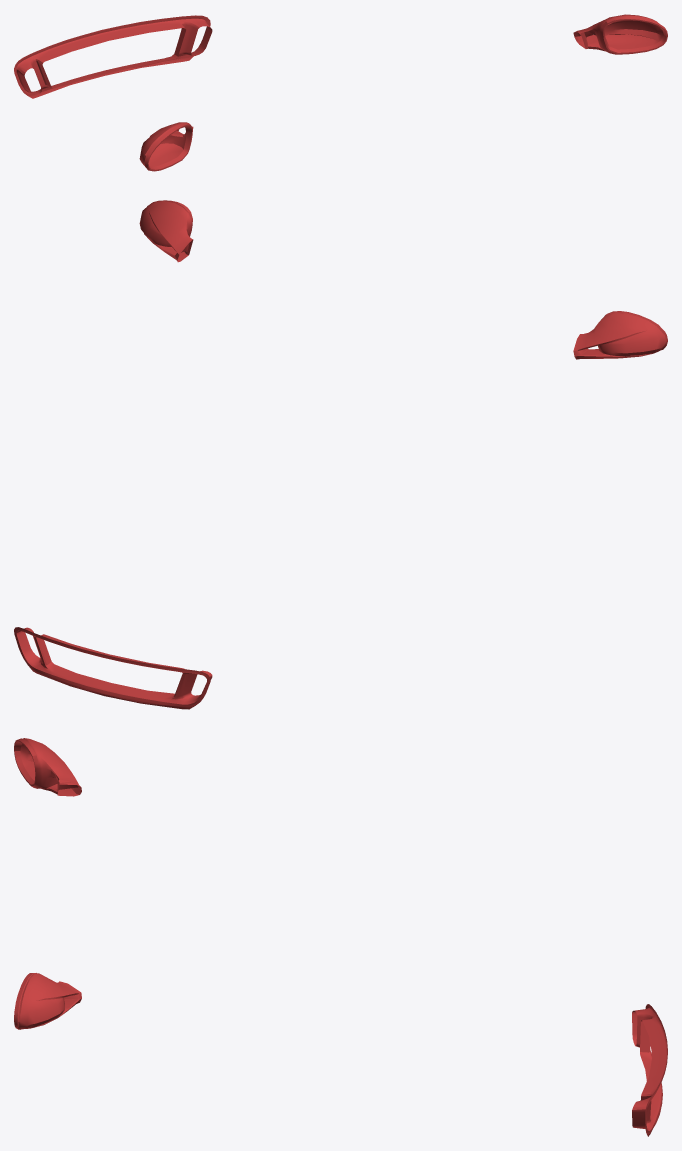
The model's file is other_red_parts.fbx.
The picture shows the model from 3 angles, top to bottom: view 1: azimuth 30°, elevation 25°; view 2: azimuth 150°, elevation 25°; view 3: azimuth 270°, elevation 25°; orthographic projection. The views are drawn at different scales.
Parts seen in each view (by area): view 1: Red_Parts; view 2: Red_Parts; view 3: Red_Parts.
Boxes of the visible parts, left/top/right/bottom form: Red_Parts: left=14, top=14, right=667, bottom=171; Red_Parts: left=14, top=200, right=667, bottom=709; Red_Parts: left=14, top=738, right=667, bottom=1136.
Size of the model in its own units: 201 by 81.35 by 204.
